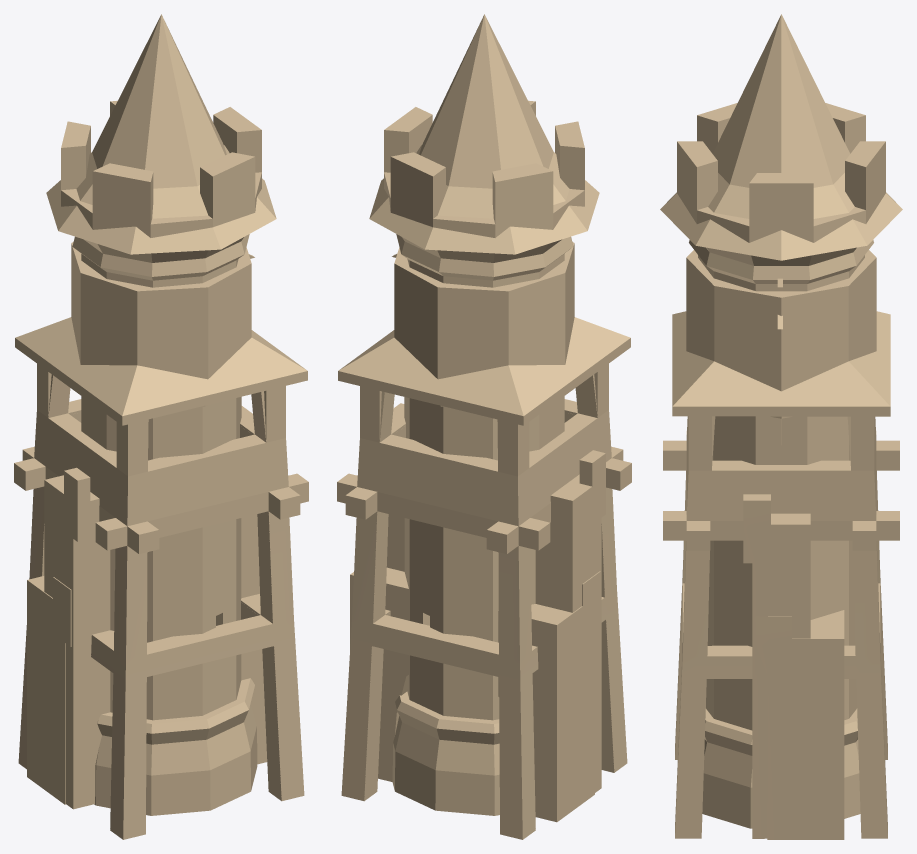
Rendered from kale-Cj7cuY4d.glb.
The picture shows the model from 3 angles, left to right: view 1: azimuth 30°, elevation 25°; view 2: azimuth 150°, elevation 25°; view 3: azimuth 270°, elevation 25°; orthographic projection.
Visible parts, largest first — view 1: LargeTower, Watchtower, PointyTower, WatchTowerWRoof, TallWall, WallEntrance; view 2: LargeTower, Watchtower, PointyTower, WatchTowerWRoof, WallEntrance, TallWall; view 3: LargeTower, PointyTower, Watchtower, WatchTowerWRoof, WallEntrance, TallWall.
Part boxes in pixels (bbox=[...]): LargeTower: bbox=[61, 100, 261, 815]; Watchtower: bbox=[14, 374, 308, 837]; PointyTower: bbox=[46, 14, 276, 379]; WatchTowerWRoof: bbox=[14, 254, 308, 839]; TallWall: bbox=[44, 467, 267, 809]; WallEntrance: bbox=[27, 576, 71, 804]; LargeTower: bbox=[384, 100, 584, 815]; Watchtower: bbox=[337, 374, 631, 837]; PointyTower: bbox=[369, 14, 599, 379]; WatchTowerWRoof: bbox=[337, 254, 631, 839]; WallEntrance: bbox=[350, 567, 600, 822]; TallWall: bbox=[386, 403, 605, 792]; LargeTower: bbox=[677, 103, 885, 828]; PointyTower: bbox=[660, 14, 902, 444]; Watchtower: bbox=[663, 416, 899, 836]; WatchTowerWRoof: bbox=[663, 278, 899, 838]; WallEntrance: bbox=[755, 610, 844, 839]; TallWall: bbox=[743, 494, 810, 838].
Size of the model in its own units: 1.54 by 5.42 by 1.53.
